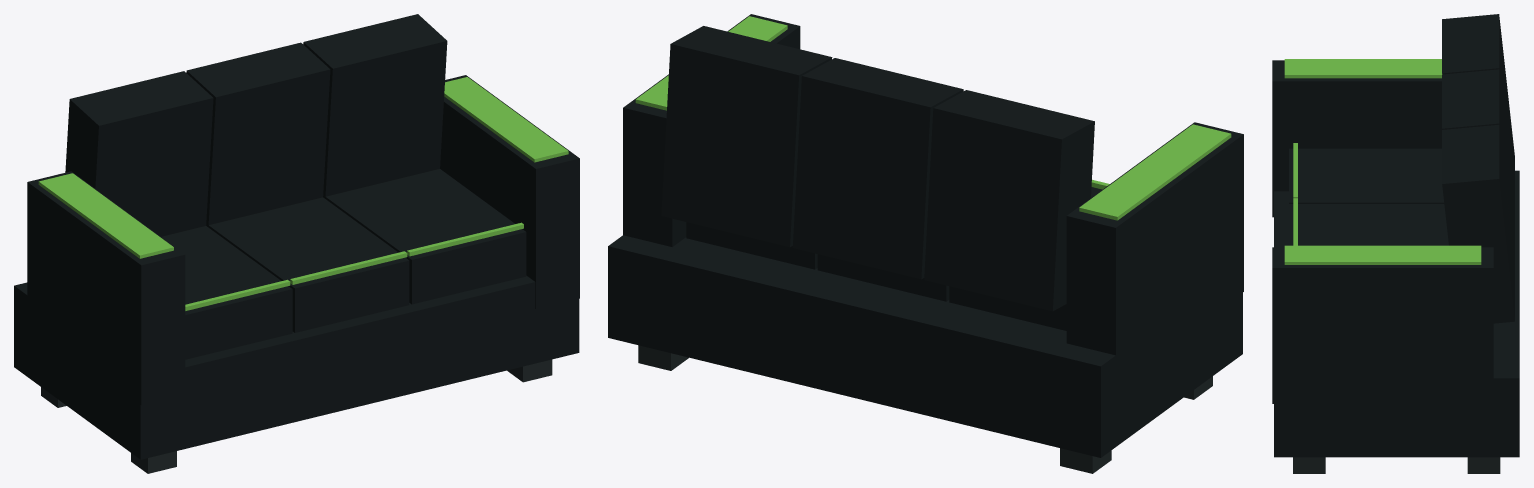
File: good.glb
3 views of the same model, side by side, from view 1: azimuth 30°, elevation 25°; view 2: azimuth 150°, elevation 25°; view 3: azimuth 270°, elevation 25° (orthographic). The views are drawn at different scales.
Visible parts, largest first — view 1: Armrest, Green edge, Sofa foot; view 2: Armrest, Green edge, Sofa foot; view 3: Armrest, Green edge, Sofa foot.
Boxes of the visible parts, bbox=[...] form: Armrest: bbox=[14, 14, 579, 459]; Green edge: bbox=[38, 77, 568, 310]; Sofa foot: bbox=[41, 359, 552, 473]; Armrest: bbox=[608, 14, 1243, 457]; Green edge: bbox=[635, 16, 1231, 220]; Sofa foot: bbox=[638, 345, 1212, 473]; Armrest: bbox=[1272, 14, 1519, 457]; Green edge: bbox=[1284, 59, 1481, 264]; Sofa foot: bbox=[1293, 457, 1500, 473].
Bounding box in the file's own units: 1 × 0.6328 × 0.5028.
